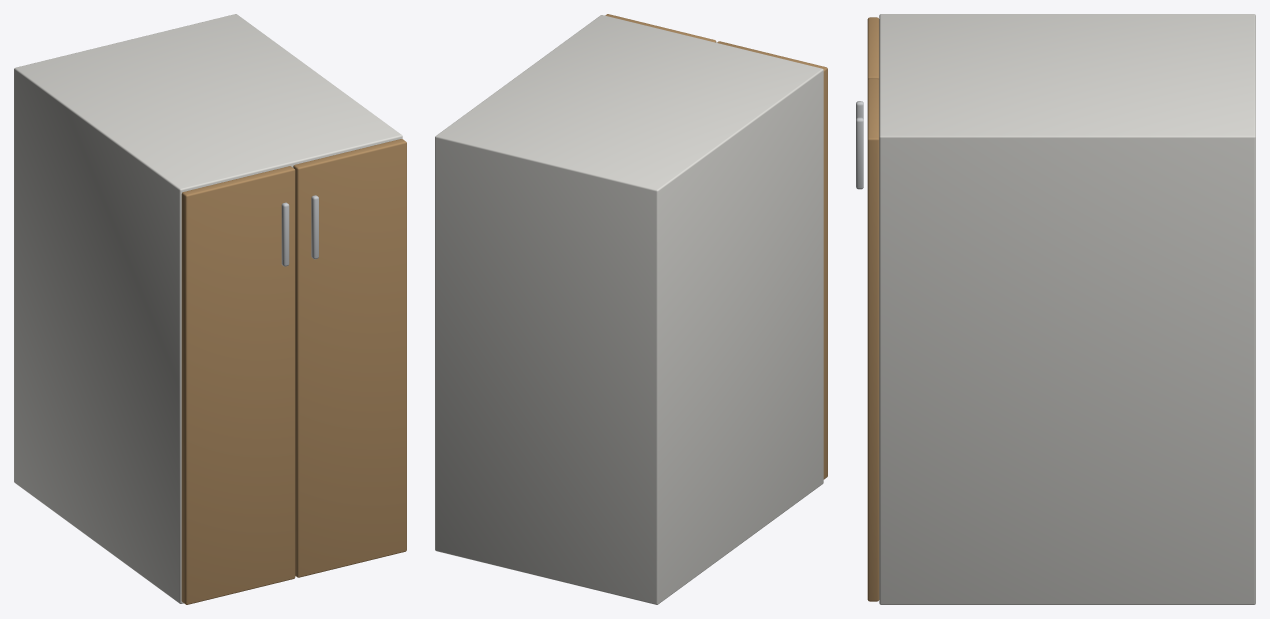
The model's file is armario-cocina.glb.
3 renders of one model, left to right at view 1: azimuth 30°, elevation 25°; view 2: azimuth 150°, elevation 25°; view 3: azimuth 270°, elevation 25°, orthographic. The views are drawn at different scales.
Visible parts, largest first — view 1: Cuerpo.008, Puerta.004, Puerta.005, Tirador.008; view 2: Cuerpo.008, Puerta.004; view 3: Cuerpo.008, Puerta.005, Puerta.004, Tirador.009.
Part boxes in pixels (x1,y1,x2,y2): Cuerpo.008: (14,14,402,603); Puerta.004: (181,166,295,604); Puerta.005: (293,139,406,577); Tirador.008: (281,202,289,266); Cuerpo.008: (435,15,823,604); Puerta.004: (717,41,827,479); Cuerpo.008: (879,14,1255,604); Puerta.005: (867,79,879,601); Puerta.004: (867,17,879,79); Tirador.009: (856,117,863,189).
Bounding box in the file's own units: 0.45 × 0.8 × 0.618.
